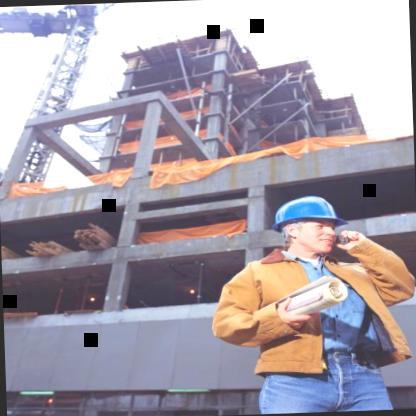helmet: (267, 188, 353, 260)
